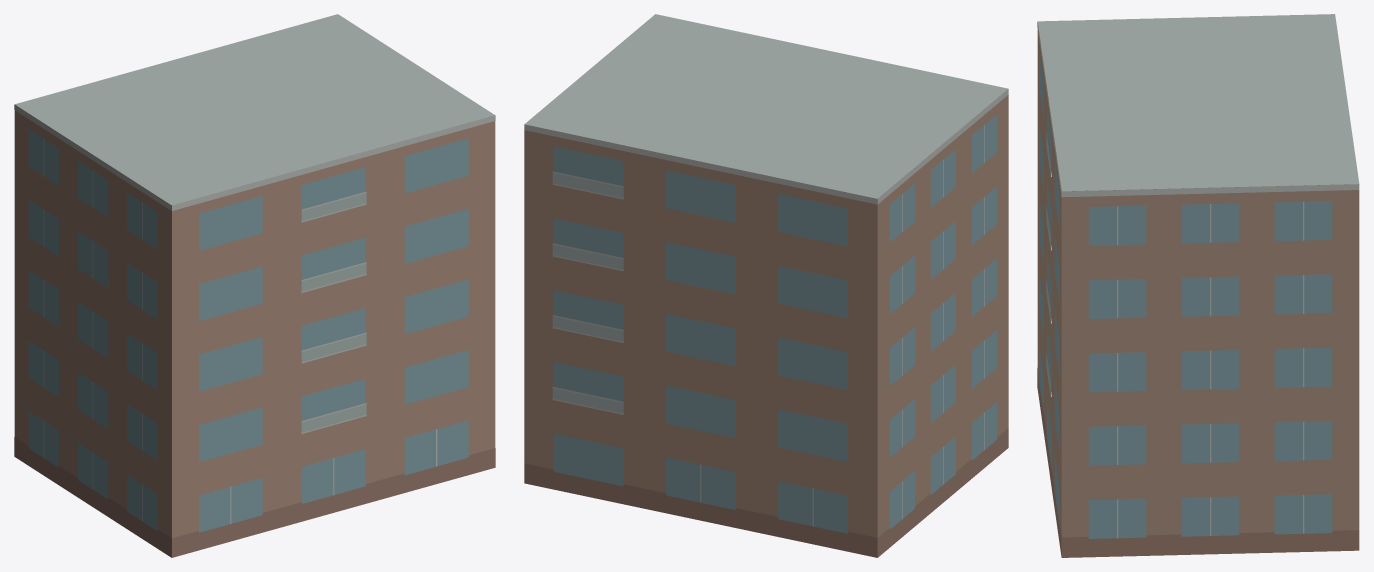
Rendered from survey-upis-32698608.glb.
3 views of the same model, side by side, from view 1: azimuth 30°, elevation 25°; view 2: azimuth 150°, elevation 25°; view 3: azimuth 270°, elevation 25° (orthographic). The views are drawn at different scales.
Visible parts, largest first — view 1: survey-upis-32698608.tmp; view 2: survey-upis-32698608.tmp; view 3: survey-upis-32698608.tmp.
Part boxes in pixels (x1=…): survey-upis-32698608.tmp: x1=14, y1=14, x2=495, y2=557; survey-upis-32698608.tmp: x1=524, y1=14, x2=1008, y2=557; survey-upis-32698608.tmp: x1=1037, y1=14, x2=1359, y2=557.
Bounding box in the file's own units: 15.84 × 15.25 × 12.15.
